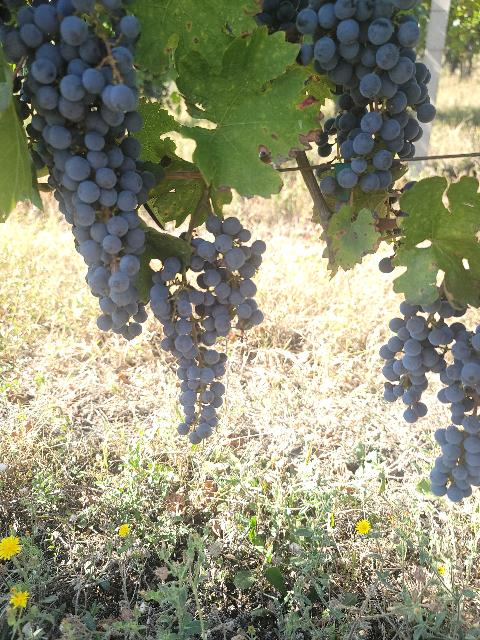grapes: (0, 0, 144, 159), (49, 144, 155, 339), (256, 0, 430, 116), (149, 258, 231, 444), (379, 300, 454, 422), (430, 325, 480, 502), (194, 216, 266, 325)
